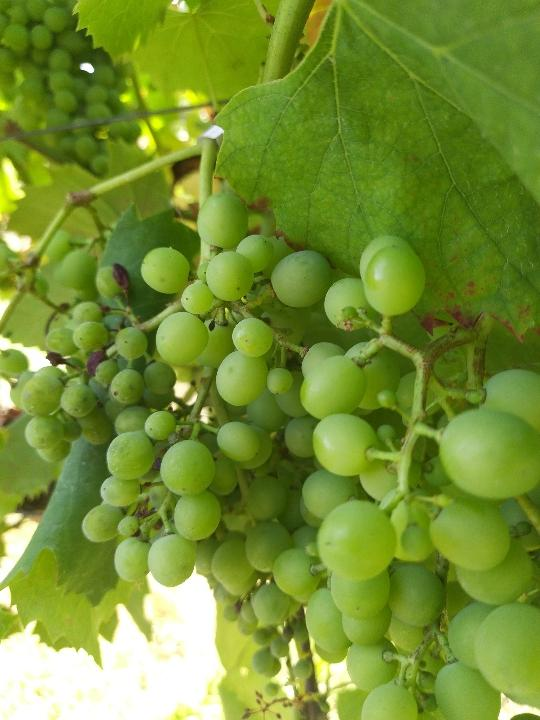grape: (272, 237, 536, 718), (10, 194, 260, 585)
